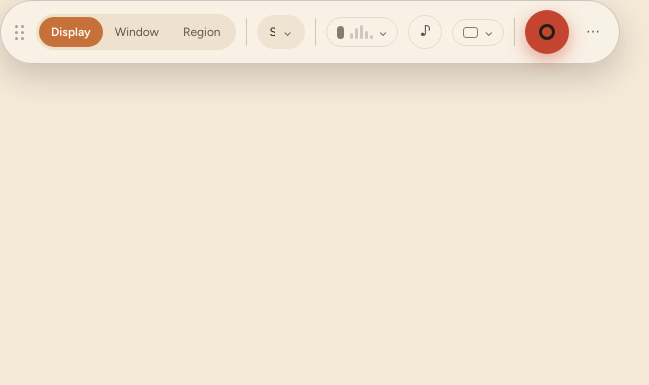
Scenario: PreRecordContainer — sources, chips and window growth › works without a windows port (menus render in flow)
Click the button named "More options" at (593, 32), box left=579, top=18, right=607, bottom=46
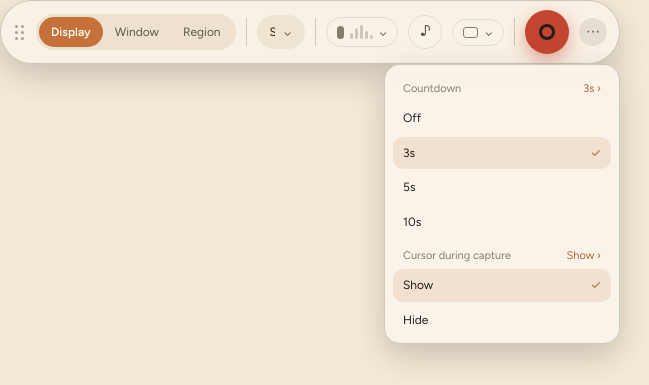
Check: the menu named "More options" is shown, box left=384, top=64, right=620, bottom=344
